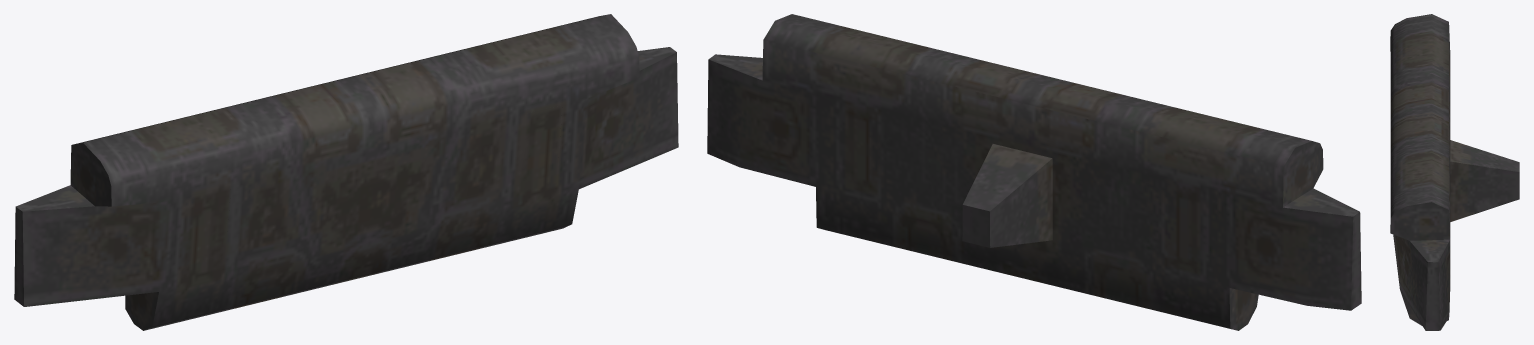
3 renders of one model, left to right at view 1: azimuth 30°, elevation 25°; view 2: azimuth 150°, elevation 25°; view 3: azimuth 270°, elevation 25°, orthographic. The views are drawn at different scales.
Visible parts, largest first — view 1: set_0_group_0; view 2: set_0_group_0; view 3: set_0_group_0.
Boxes of the visible parts, x1,y1,x2,y2 form: set_0_group_0: (14,14,678,330); set_0_group_0: (707,14,1361,330); set_0_group_0: (1390,14,1519,330).
Bounding box in the file's own units: 0.7738 × 0.2224 × 0.1818.
Materials: 1 (1 with a texture image).
